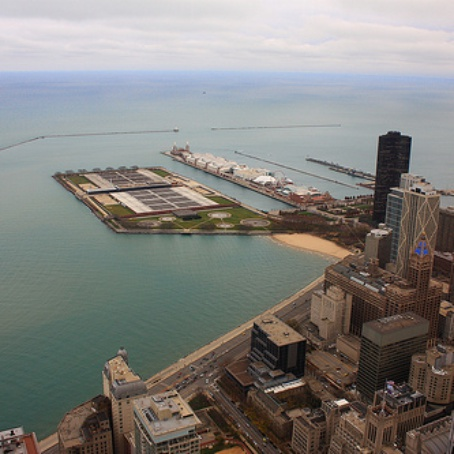building: (326, 250, 450, 346), (359, 309, 427, 402), (226, 315, 308, 391), (382, 184, 440, 282), (374, 129, 411, 233), (308, 288, 350, 337)
sea: (1, 76, 454, 237), (1, 229, 303, 408)
sky: (1, 1, 444, 72)
